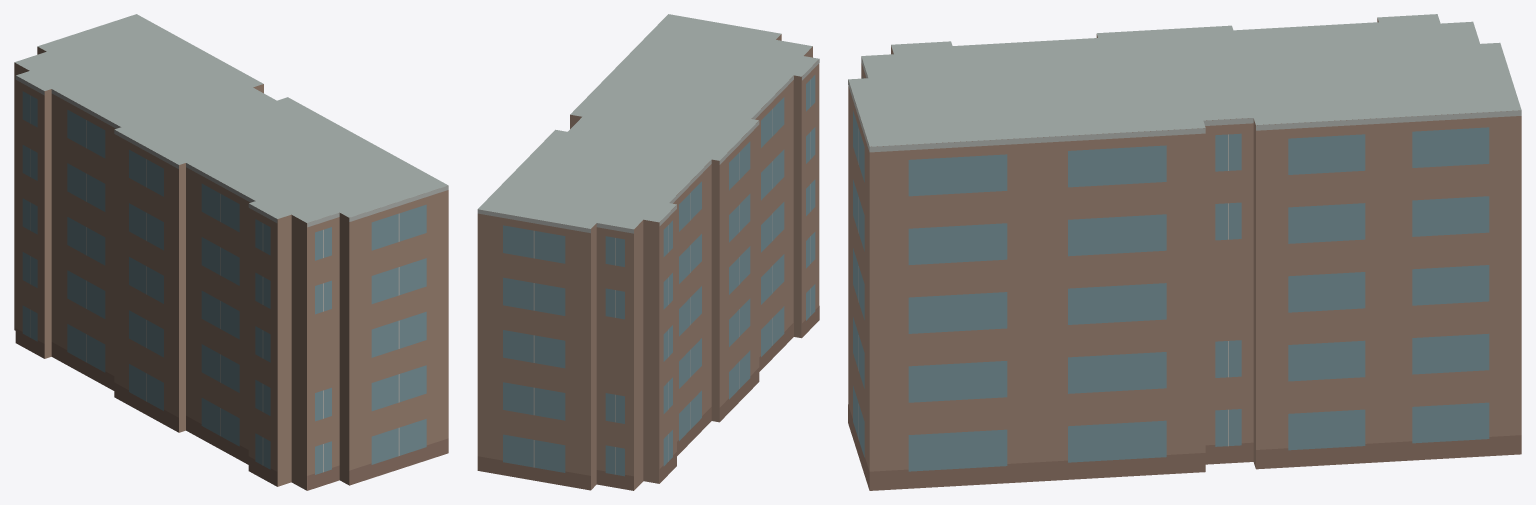
The model's file is survey-upis-32980754.glb.
3 renders of one model, left to right at view 1: azimuth 30°, elevation 25°; view 2: azimuth 150°, elevation 25°; view 3: azimuth 270°, elevation 25°, orthographic. The views are drawn at different scales.
Visible parts, largest first — view 1: survey-upis-32980754.tmp; view 2: survey-upis-32980754.tmp; view 3: survey-upis-32980754.tmp.
Boxes of the visible parts, x1,y1,x2,y2 form: survey-upis-32980754.tmp: (14,14,448,490); survey-upis-32980754.tmp: (477,14,819,490); survey-upis-32980754.tmp: (848,14,1521,490).
Bounding box in the file's own units: 12.47 × 15.05 × 26.71.
